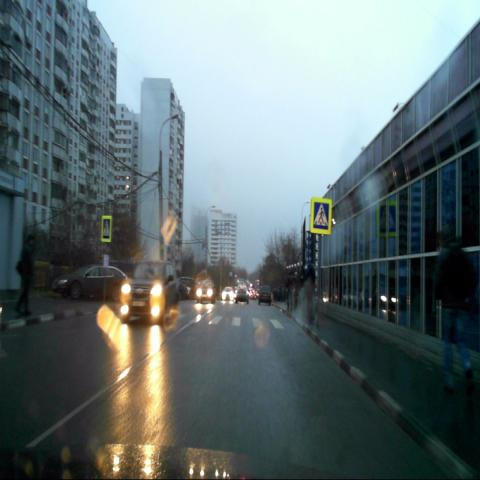5_19_1: (101, 216, 111, 242)
